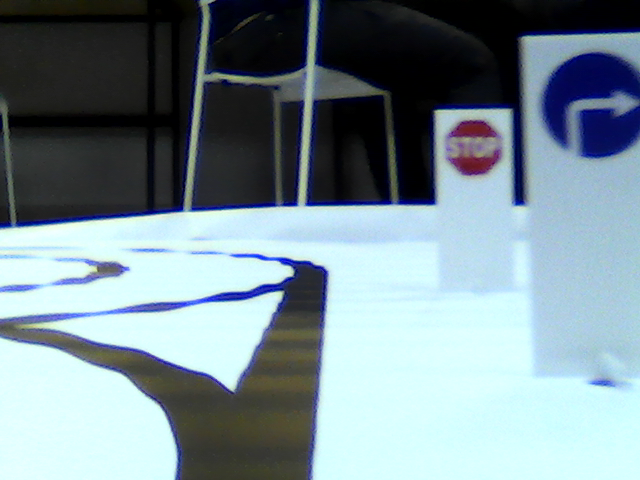Right: (540, 51, 640, 163)
Stop: (446, 118, 500, 174)
